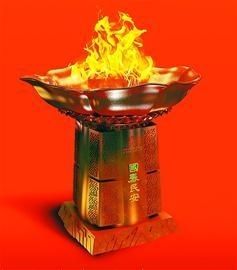fire: (46, 9, 173, 88)
